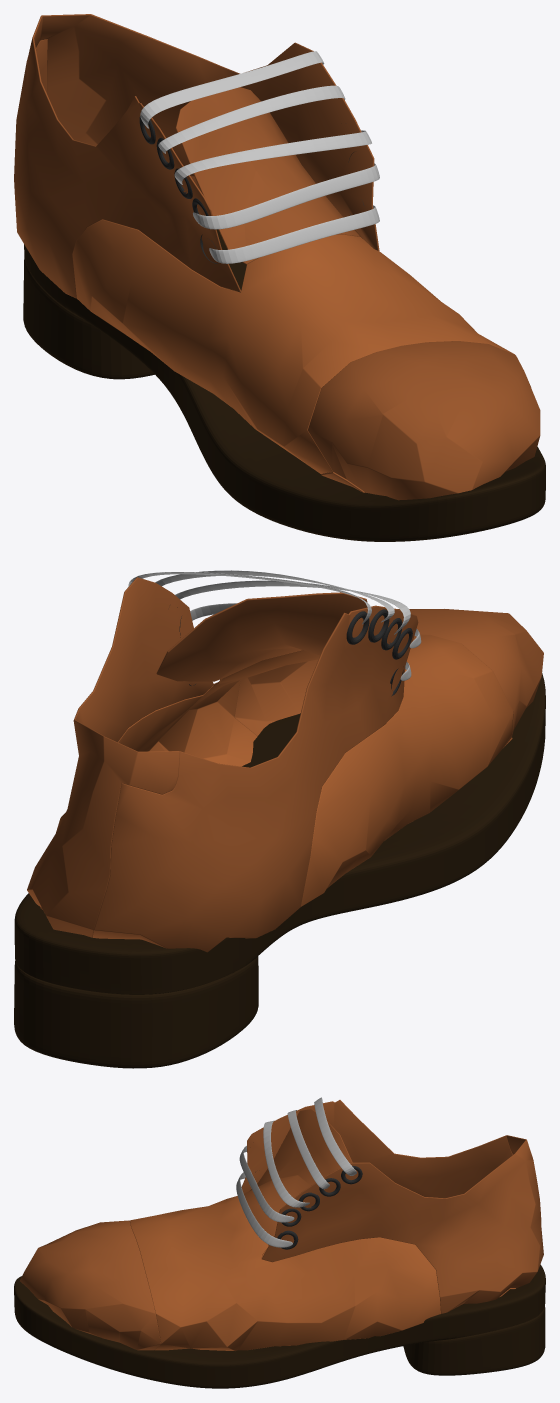
The model's file is za1ot1izquierda.fbx.
The picture shows the model from 3 angles, top to bottom: view 1: azimuth 30°, elevation 25°; view 2: azimuth 150°, elevation 25°; view 3: azimuth 270°, elevation 25°; orthographic projection. The views are drawn at different scales.
Visible parts, largest first — view 1: ZAPATO1_3, Plane, Plane.002, Plane.004, Plane.005, Plane.001, Plane.003; view 2: ZAPATO1_3, Plane, Plane.001, Plane.003, Plane.004; view 3: ZAPATO1_3, Plane, Plane.001, Plane.004, Plane.003, Plane.005, Plane.002.
Part boxes in pixels (box(x1,y1,x2,y2)): ZAPATO1_3: box(14, 14, 540, 500); Plane: box(23, 229, 545, 541); Plane.002: box(193, 163, 379, 229); Plane.004: box(140, 51, 324, 128); Plane.005: box(209, 205, 379, 263); Plane.001: box(174, 130, 371, 184); Plane.003: box(158, 85, 345, 153); ZAPATO1_3: box(27, 577, 543, 952); Plane: box(14, 673, 545, 1068); Plane.001: box(175, 580, 410, 634); Plane.003: box(155, 570, 394, 622); Plane.004: box(128, 572, 371, 624); ZAPATO1_3: box(20, 1100, 543, 1350); Plane: box(14, 1264, 545, 1388); Plane.001: box(263, 1120, 309, 1207); Plane.004: box(314, 1097, 356, 1175); Plane.003: box(287, 1110, 329, 1189); Plane.005: box(236, 1172, 292, 1247); Plane.002: box(239, 1145, 294, 1222).
Size of the model in its own units: 174 by 204 by 447.
